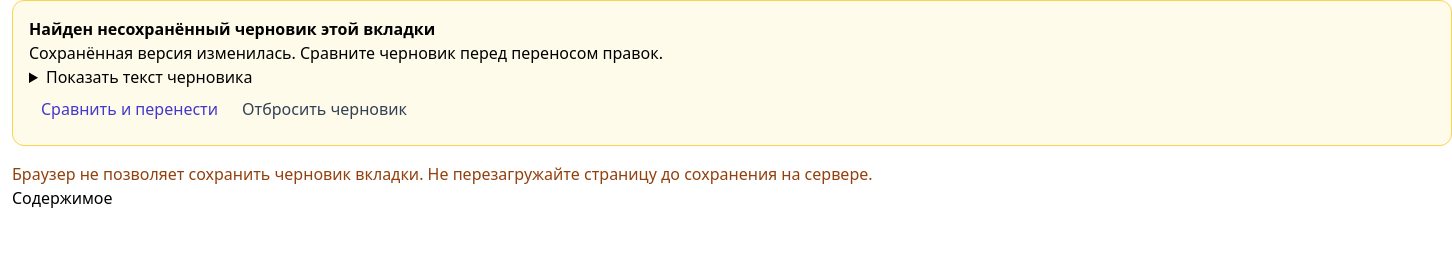
shows changed-version comparison, draft text, discard, and storage warning
Later steps or results of the test are not shown.
Expected: the 2nd message shows "не позволяет сохранить черновик", [12,163,872,185]
Expected: the text "версия изменилась" is shown, [29,42,663,64]
Click the heading "Показать текст черновика": (149, 77) [46,66,252,88]
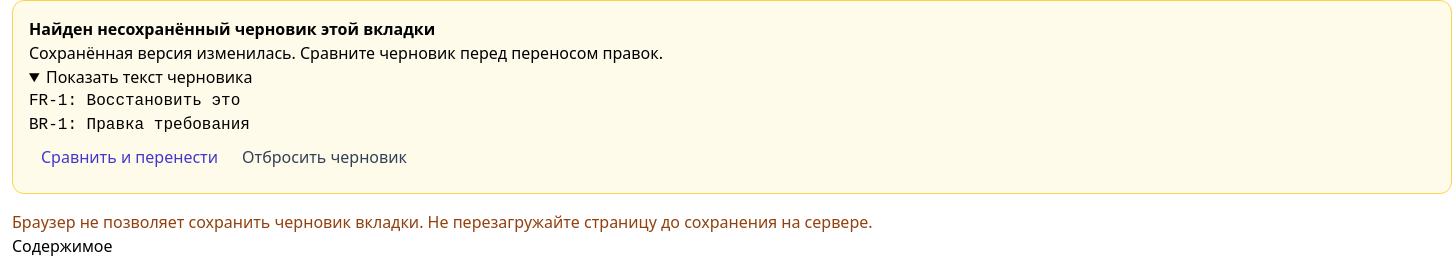
Expected: the text "FR-1: Восстановить это BR-1: Правка требования" is shown, [29,92,250,134]
